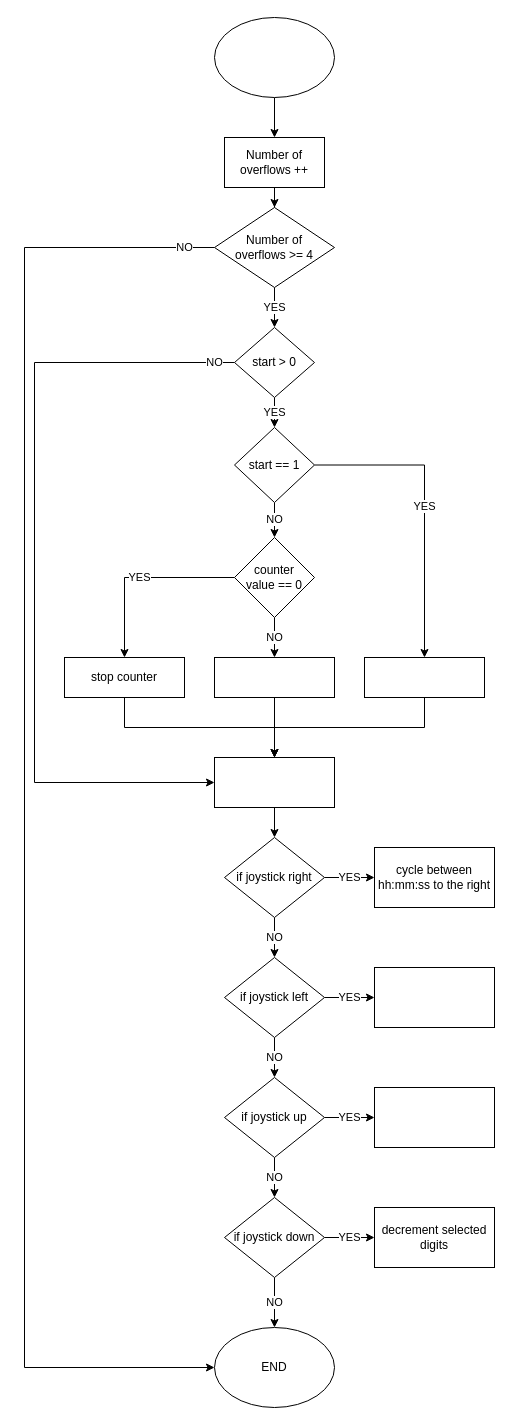
The diagram is 512 pixels wide and 1425 high, and some of its shapes have lost their labels. Each missing label, with the box of its shape:
cycle between hh:mm:ss to the left: (374, 966, 494, 1028)
decrement time counter: (214, 656, 334, 698)
increment selected digits: (374, 1086, 494, 1148)
increment time counter: (364, 656, 484, 698)
TIMER1_OVF_VECT: (214, 16, 334, 98)
write time to lcd: (214, 756, 334, 808)
